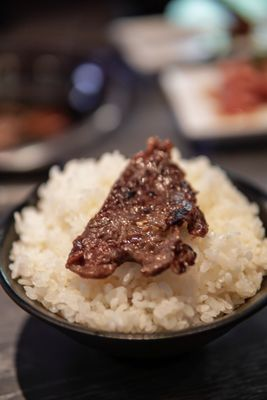sandwich: (4, 136, 266, 335)
